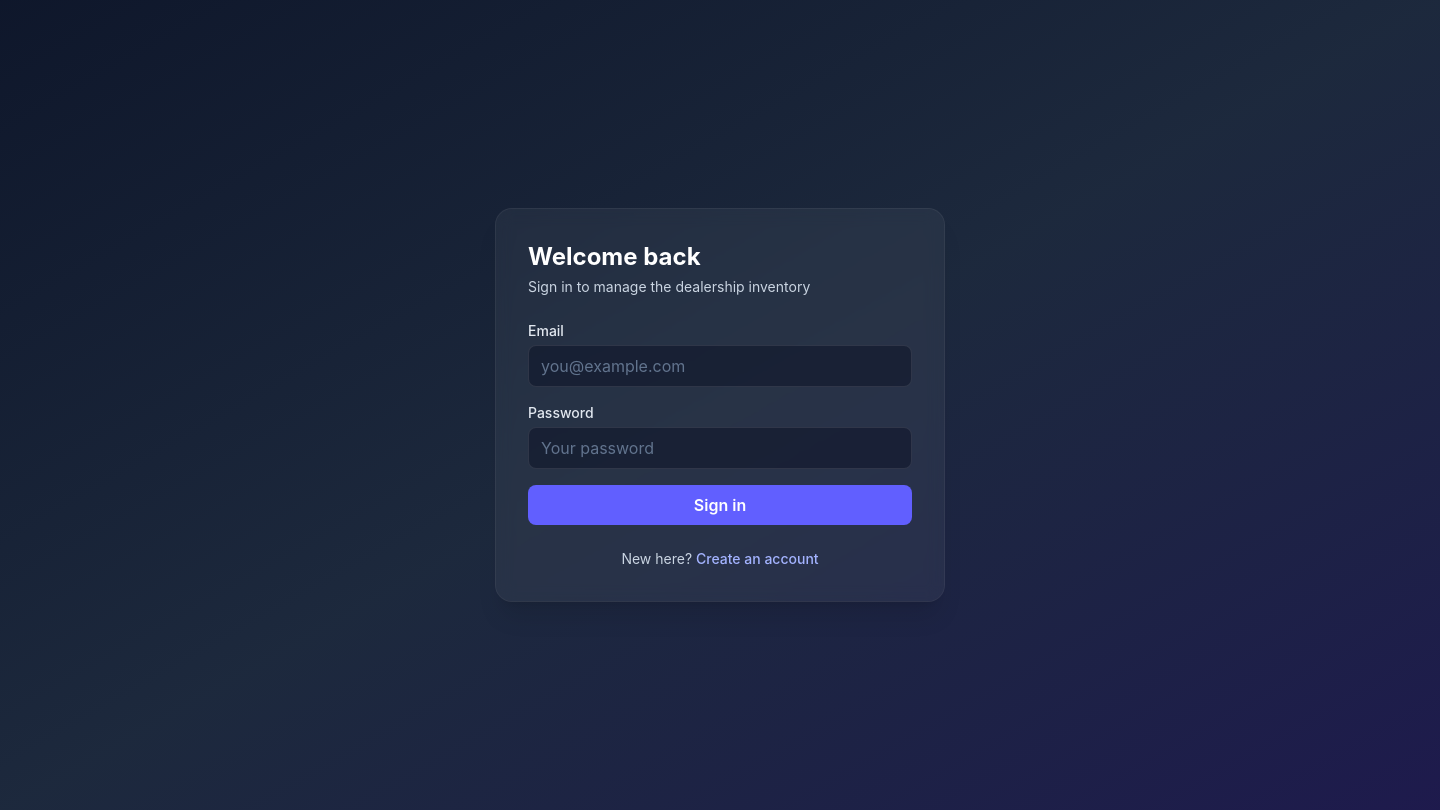
Test: LoginPage › shows an error for wrong credentials
Type "user@example.com" into the field labelled "Email". click: (720, 366)
box: [528, 345, 912, 387]
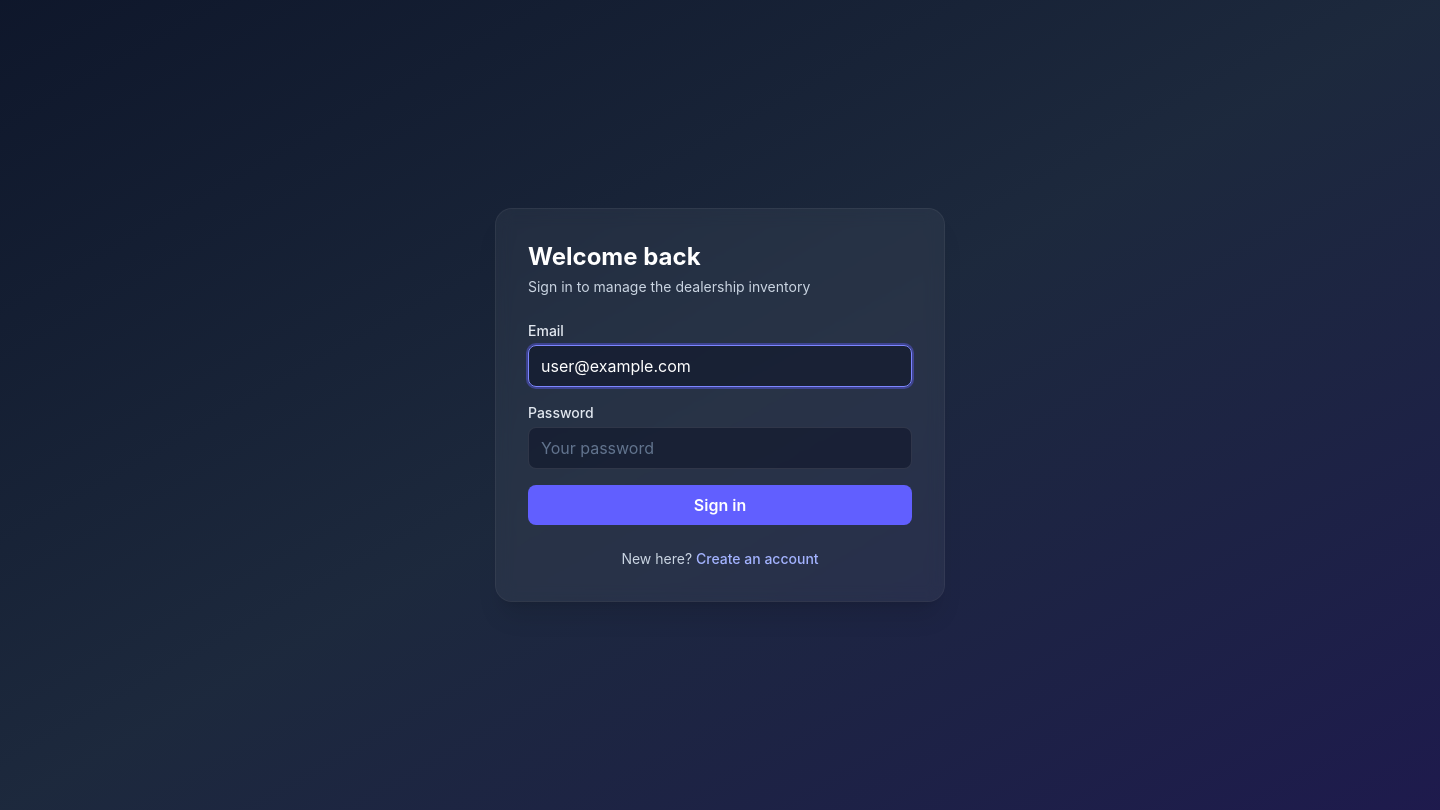
Type "User@12345" into the password field labelled "Password". click: (720, 448)
box: [528, 427, 912, 469]
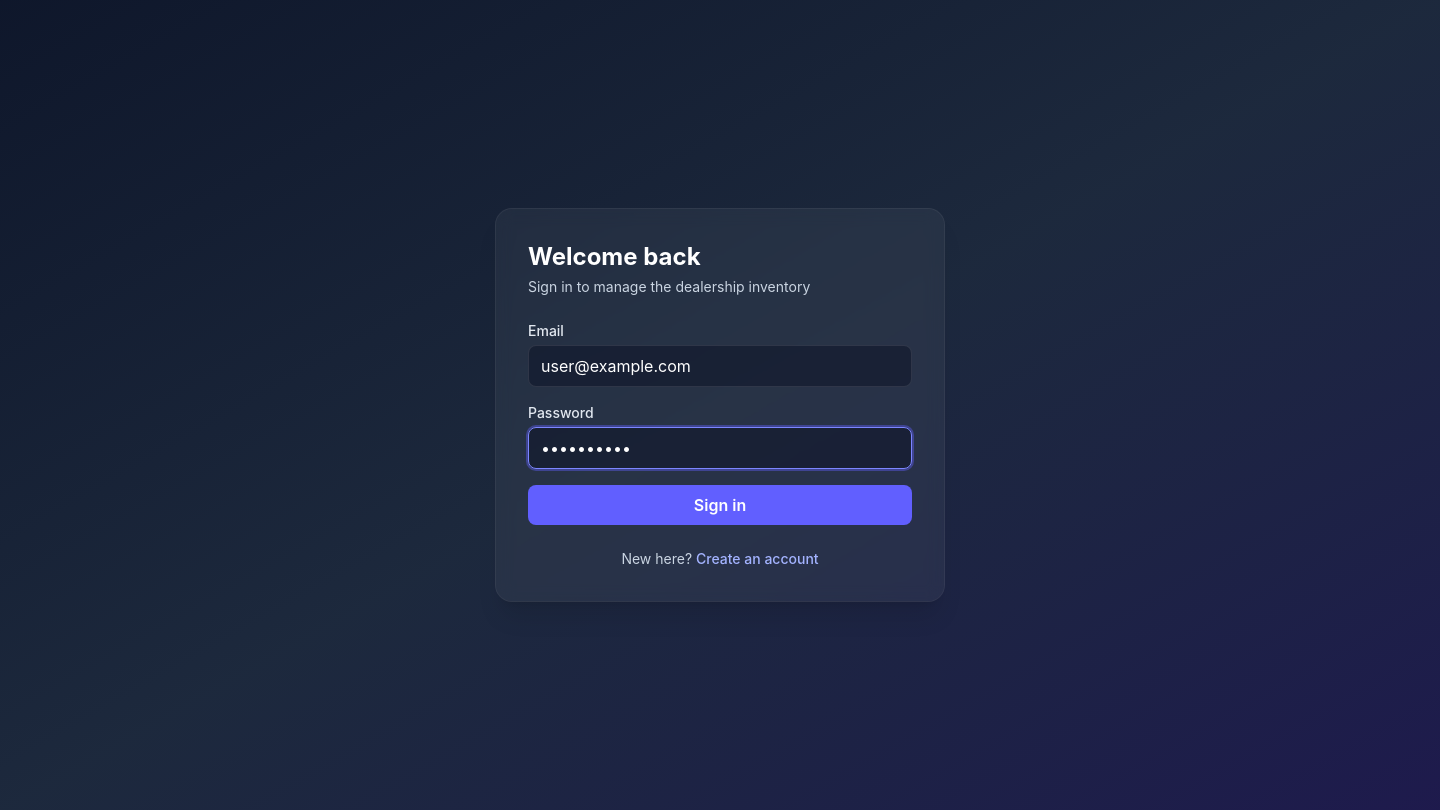
Click the button "Sign in". click: (720, 505)
box: [528, 485, 912, 525]
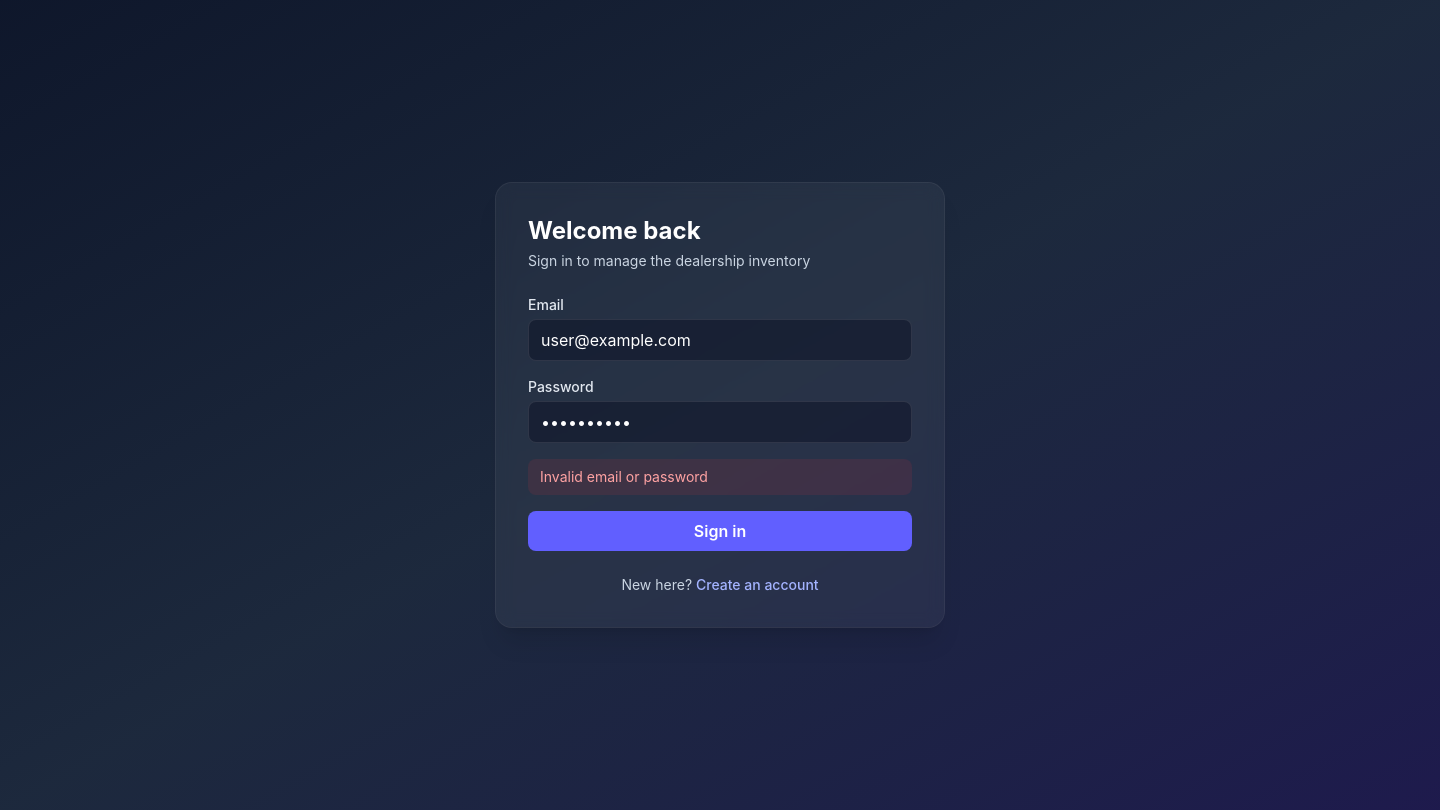
Result: the message reads "Invalid email or password" at [540, 468, 708, 485]
